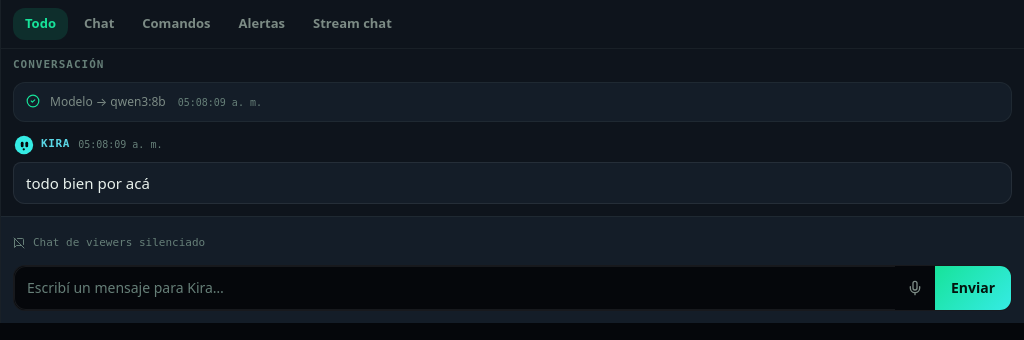
Test: ConversationPanel › filters the visible turns by tab and wires honest tab<->tabpanel ARIA
Expected: the panel with id "conversation-panel" shows "todo bien por acá", [26,172,150,192]
Expected: the panel with id "conversation-panel" shows "Modelo → qwen3:8b", [50,92,166,110]
Click the tab "Chat".
click(99, 24)  # box [72,8,126,40]
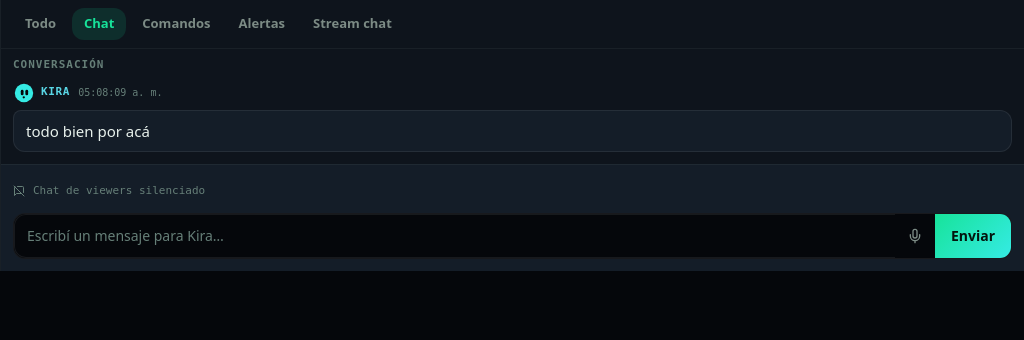
Expected: the panel with id "conversation-panel" shows "todo bien por acá", [26,120,150,140]
Now the panel with id "conversation-panel" no longer shows "Modelo → qwen3:8b", box [1,82,1023,164]
Click the tab "Alertas".
click(262, 24)  # box [226,8,297,40]
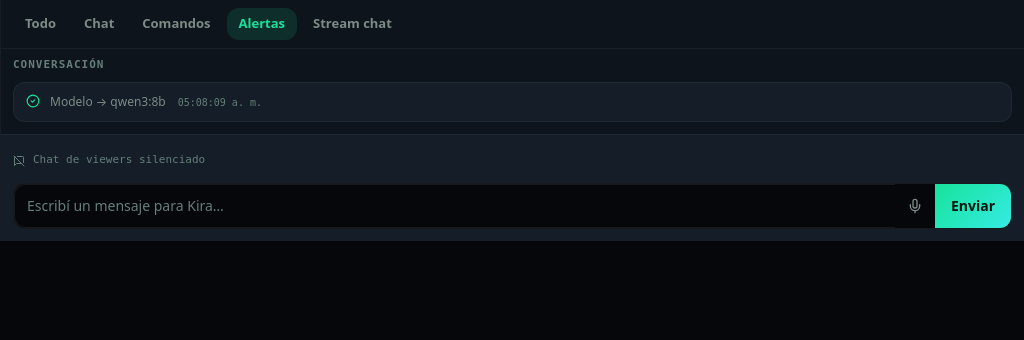
Now the panel with id "conversation-panel" shows "Modelo → qwen3:8b", box [50,92,166,110]
Now the panel with id "conversation-panel" no longer shows "todo bien por acá", box [1,82,1023,134]
